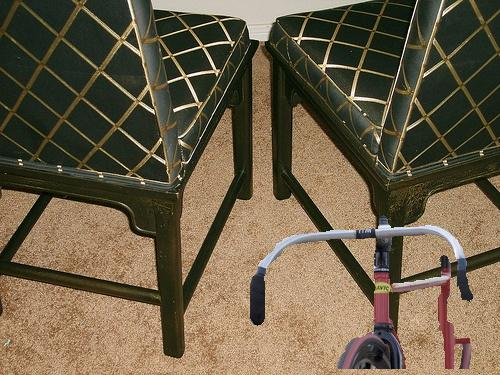tampered: (251, 216, 473, 369)
